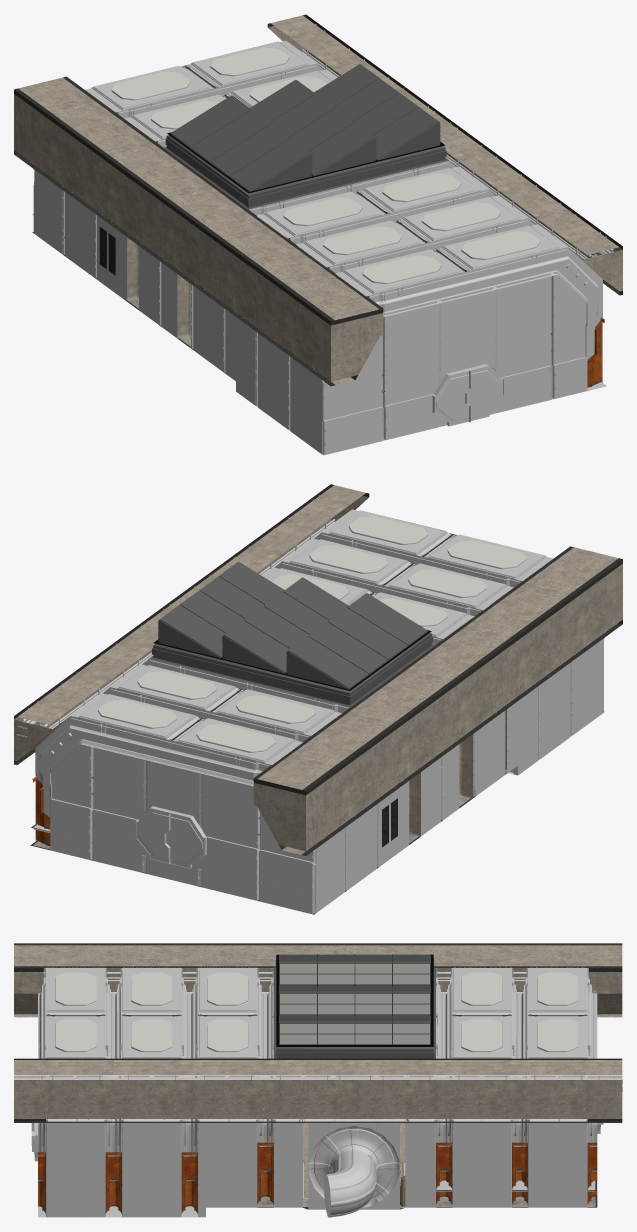
Rendered from env_robotLab_static.fbx.
3 renders of one model, top to bottom at view 1: azimuth 30°, elevation 25°; view 2: azimuth 150°, elevation 25°; view 3: azimuth 270°, elevation 25°, orthographic. The views are drawn at different scales.
Parts seen in each view (by area): view 1: roof, walls, support_033, support_031, support_028, support_032, support_030, support_018; view 2: roof, walls, support_029, support_031, support_028, support_032, support_027, support_008; view 3: roof, walls, glass, prop_fanLarge_aperture_001, floor, support_031, support_032, support_030, support_027, support_028, support_029, support_015 (+7 smaller).
Part boxes in pixels (x1,y1,x2,y2): roof: [14, 14, 622, 386]; walls: [33, 169, 602, 454]; support_033: [322, 247, 602, 381]; support_031: [288, 189, 495, 244]; support_028: [116, 63, 323, 118]; support_032: [328, 218, 534, 273]; support_030: [249, 160, 455, 215]; support_018: [587, 316, 604, 387]; roof: [14, 484, 622, 855]; walls: [35, 638, 603, 913]; support_029: [35, 716, 315, 851]; support_031: [275, 561, 482, 616]; support_028: [103, 687, 308, 741]; support_032: [314, 532, 521, 587]; support_027: [143, 658, 349, 713]; support_008: [32, 774, 50, 845]; roof: [14, 943, 622, 1122]; walls: [31, 991, 603, 1217]; glass: [280, 964, 429, 1217]; prop_fanLarge_aperture_001: [307, 1126, 400, 1207]; floor: [38, 1123, 597, 1217]; support_031: [181, 977, 197, 1181]; support_032: [105, 977, 121, 1181]; support_030: [257, 977, 273, 1171]; support_027: [436, 977, 452, 1171]; support_028: [512, 977, 527, 1171]; support_029: [587, 977, 597, 1171]; support_015: [181, 1152, 197, 1213].
Size of the model in its own units: 3324 by 1558 by 4882.
